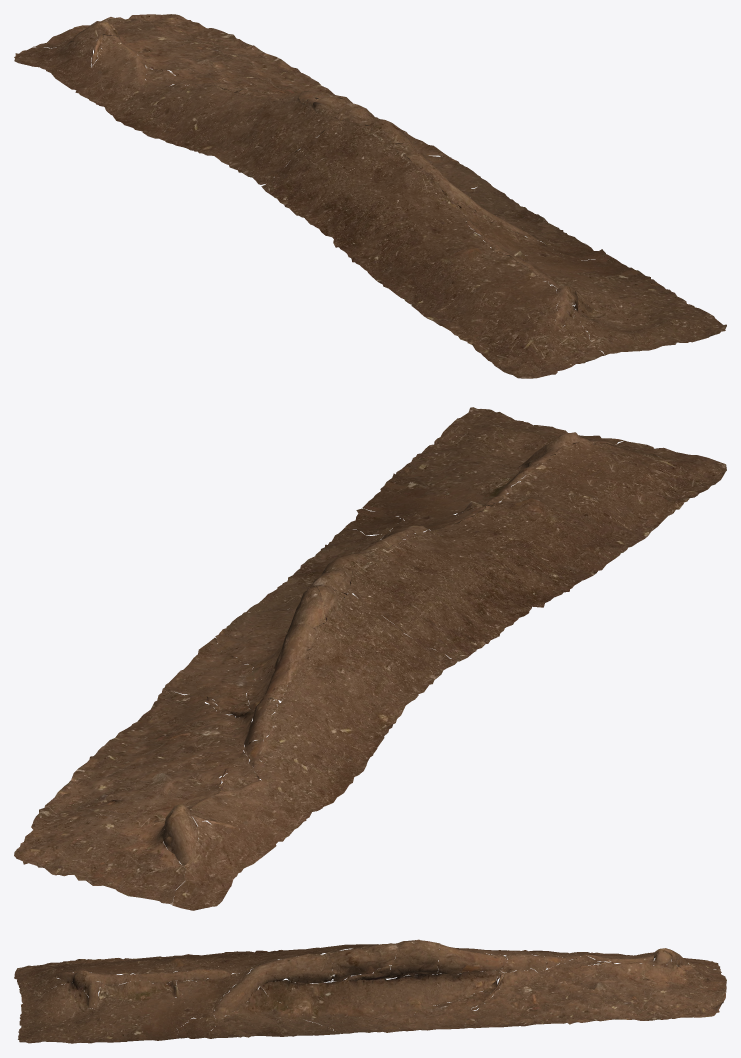
The model's file is ph_single_root.glb.
3 renders of one model, top to bottom at view 1: azimuth 30°, elevation 25°; view 2: azimuth 150°, elevation 25°; view 3: azimuth 270°, elevation 25°, orthographic. The views are drawn at different scales.
Visible parts, largest first — view 1: ph_single_root; view 2: ph_single_root; view 3: ph_single_root.
Part boxes in pixels (x1=…): ph_single_root: x1=14, y1=14, x2=726, y2=378; ph_single_root: x1=14, y1=407, x2=726, y2=910; ph_single_root: x1=14, y1=939, x2=726, y2=1043.
Bounding box in the file's own units: 0.5549 × 0.1782 × 1.84.
Materials: 1 (1 with a texture image).
